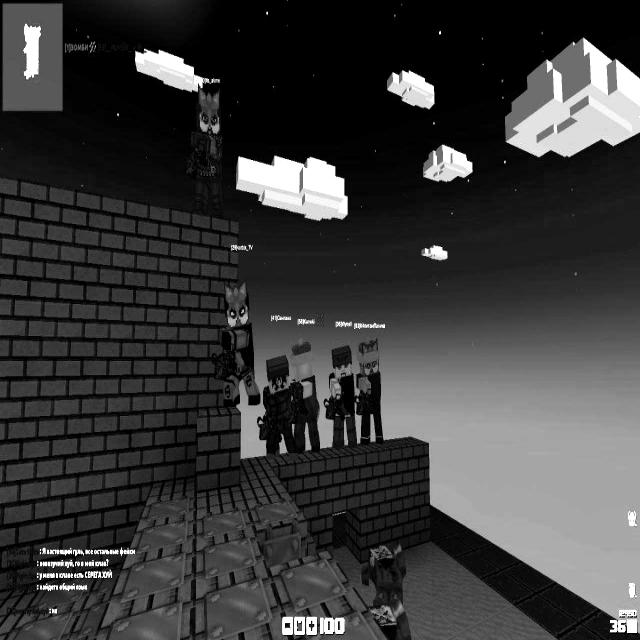Head: (195, 88, 222, 134), (224, 281, 248, 328), (292, 348, 314, 379), (267, 356, 289, 387), (332, 346, 352, 376), (359, 342, 378, 373)
Player: (217, 280, 260, 407), (191, 85, 225, 221), (288, 337, 320, 451), (261, 356, 296, 456), (325, 343, 358, 448), (357, 337, 385, 442)
